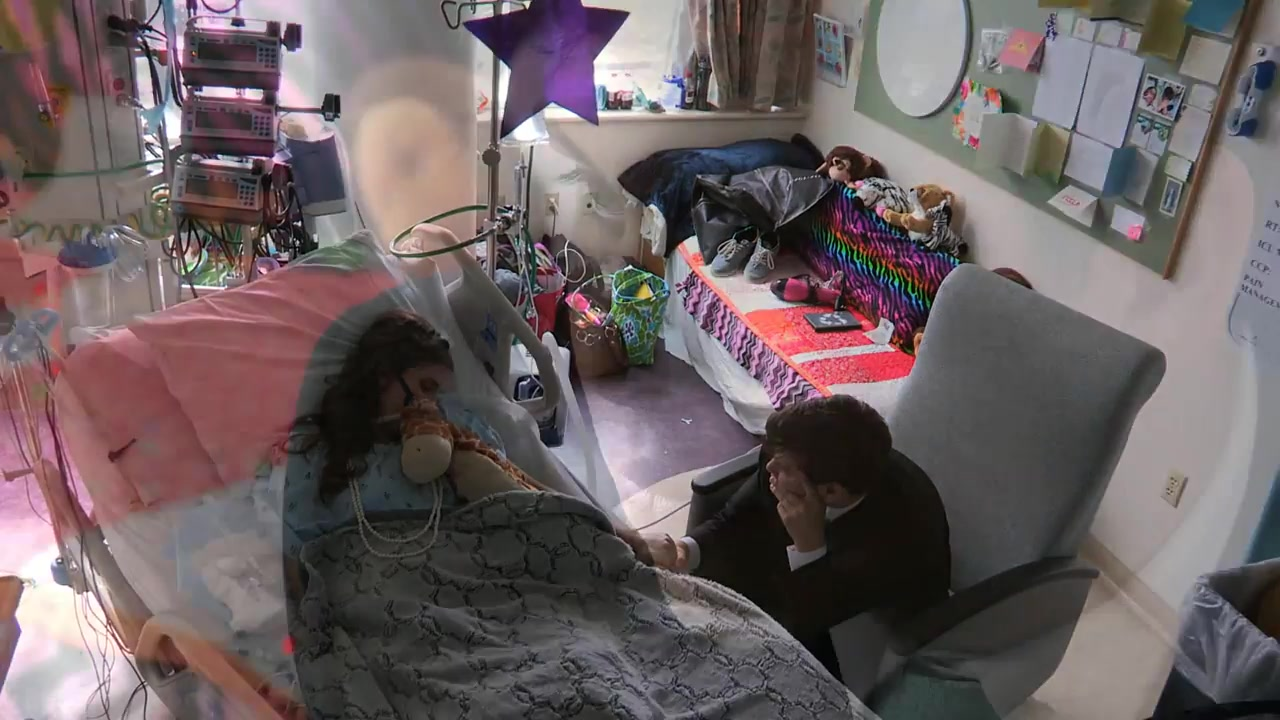bedrail: (408, 222, 562, 418), (130, 605, 295, 720)
breathing_tube: (506, 332, 599, 498)
chair: (684, 264, 1167, 718)
hospital_bed: (30, 227, 893, 720)
iv_pole: (440, 1, 534, 284)
patient: (276, 308, 678, 720)
sofa: (637, 134, 959, 425)
syringe_pump: (172, 98, 278, 158), (181, 27, 287, 87), (170, 164, 276, 224)
visitor: (675, 392, 961, 672)
waste_bin: (1147, 555, 1280, 720)
